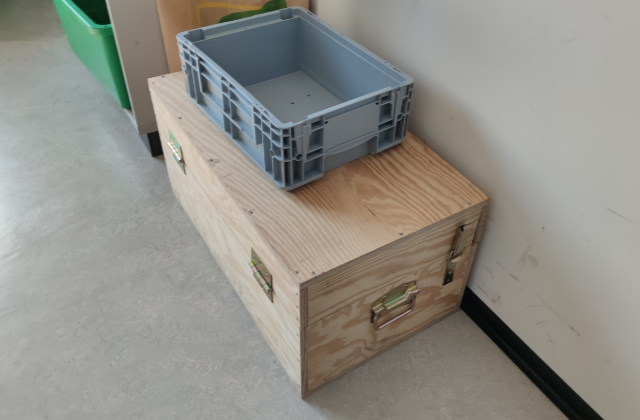Box: (174, 6, 416, 191)
